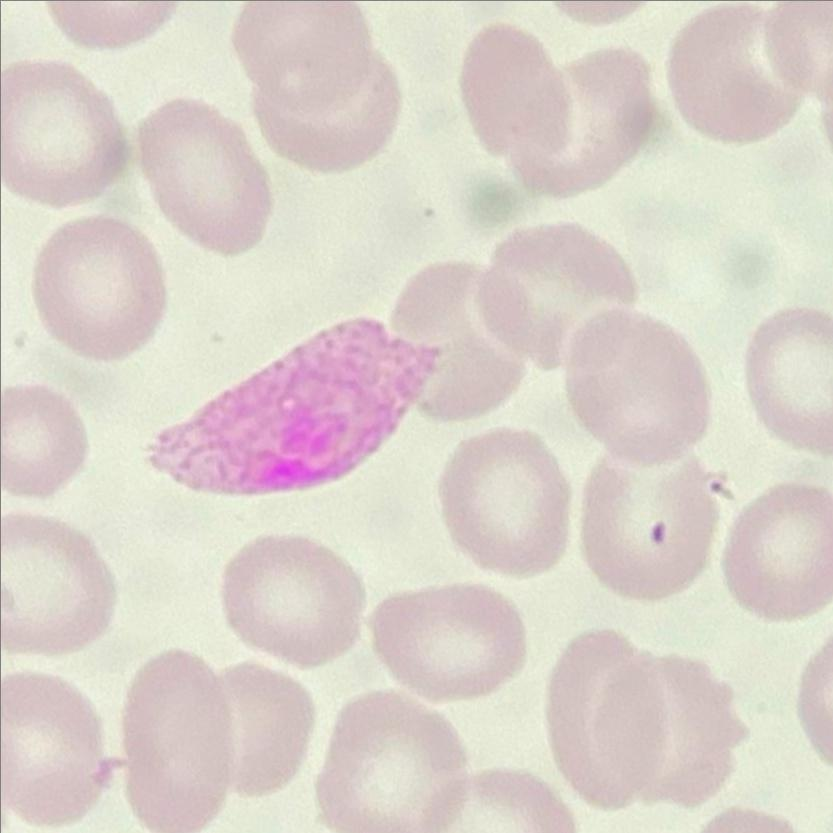Infected: (142, 319, 444, 496)
Uninfected: (390, 260, 533, 428), (542, 630, 670, 816), (478, 223, 633, 372), (563, 307, 712, 462), (606, 628, 741, 799), (504, 44, 655, 193), (120, 647, 238, 832), (315, 692, 468, 832), (137, 98, 274, 254), (250, 41, 399, 178), (578, 455, 716, 600), (439, 428, 571, 576), (31, 216, 166, 359), (221, 535, 362, 668), (370, 582, 525, 702), (668, 5, 799, 145), (1, 60, 126, 206), (2, 667, 110, 824), (458, 23, 572, 164), (1, 514, 115, 655), (721, 485, 832, 619), (235, 3, 370, 107), (743, 307, 833, 453), (220, 662, 317, 797), (3, 384, 90, 499)
